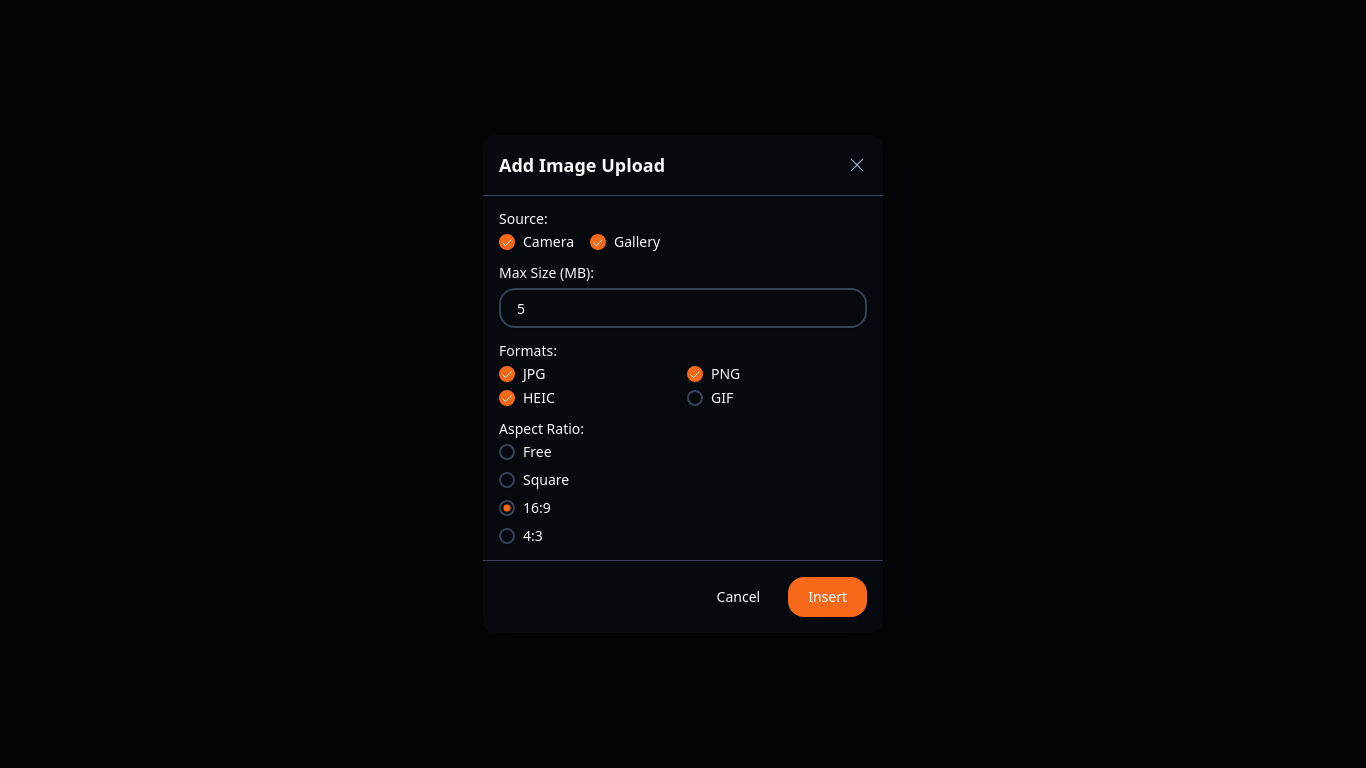
Test case: ImagePanel › Form Validation › should enable Insert button when validation passes
// Start with invalid state (no sources)
Click the checkbox named "Camera" next to "Camera" at (507, 242), box x1=499 y1=234 x2=515 y2=250
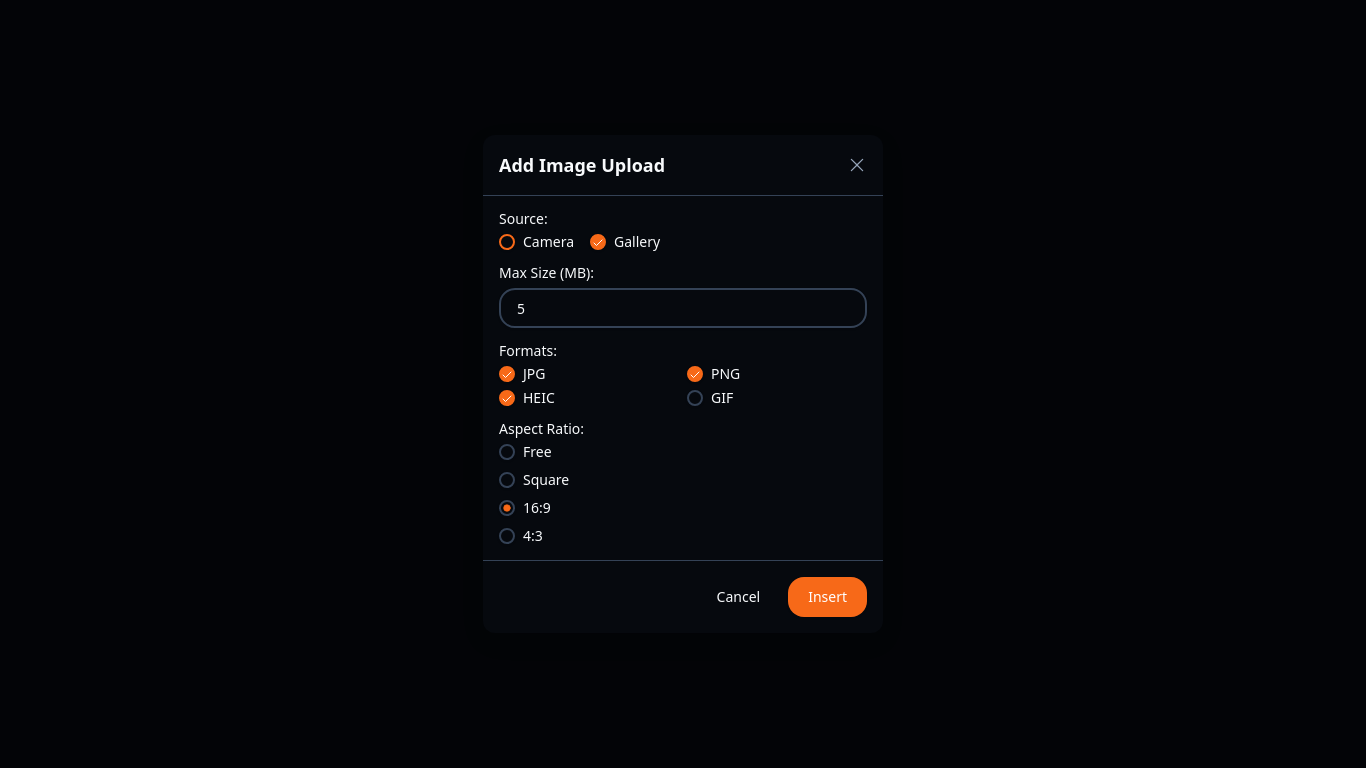
Click the checkbox named "Gallery" next to "Gallery" at (598, 242), box x1=590 y1=234 x2=606 y2=250
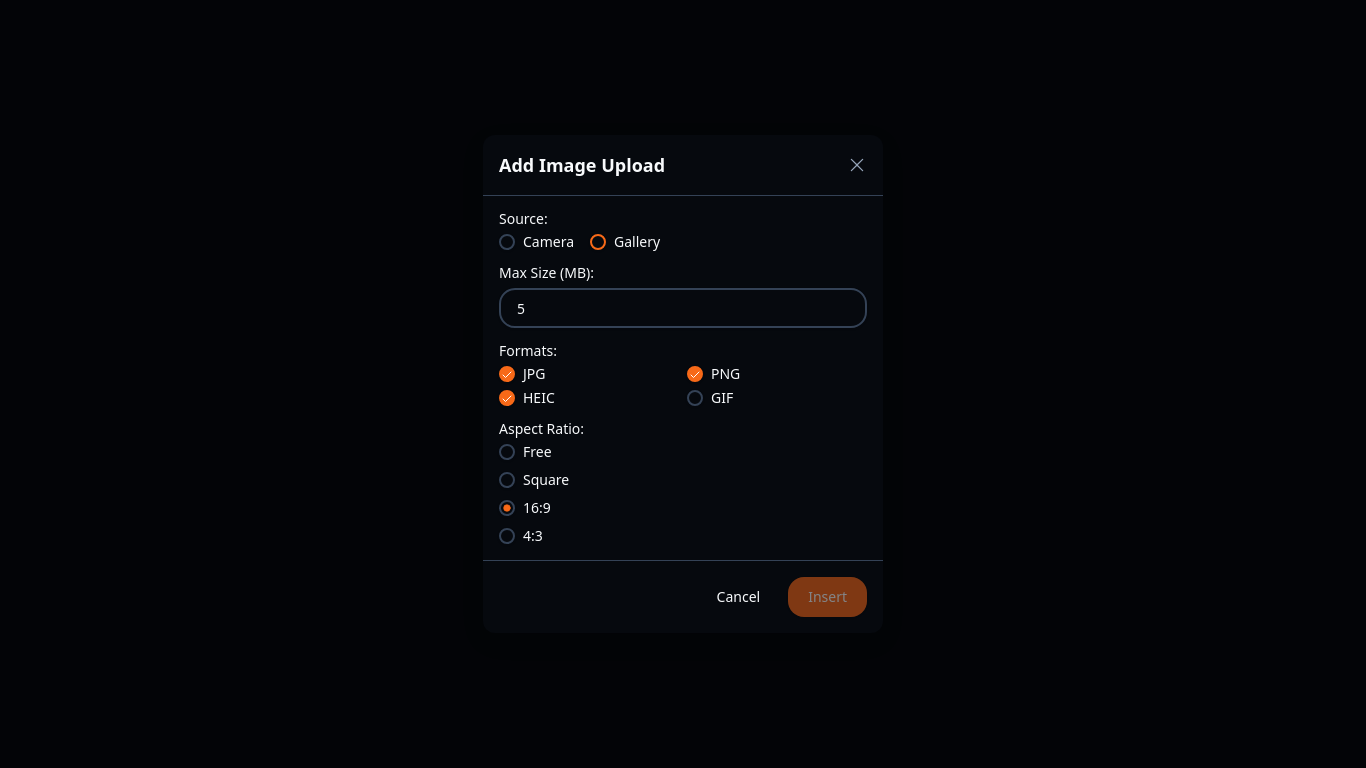
Expected: the button "Insert" is disabled, x1=788 y1=577 x2=867 y2=617
// Make valid by checking camera
Click the checkbox named "Camera" next to "Camera" at (507, 242), box x1=499 y1=234 x2=515 y2=250
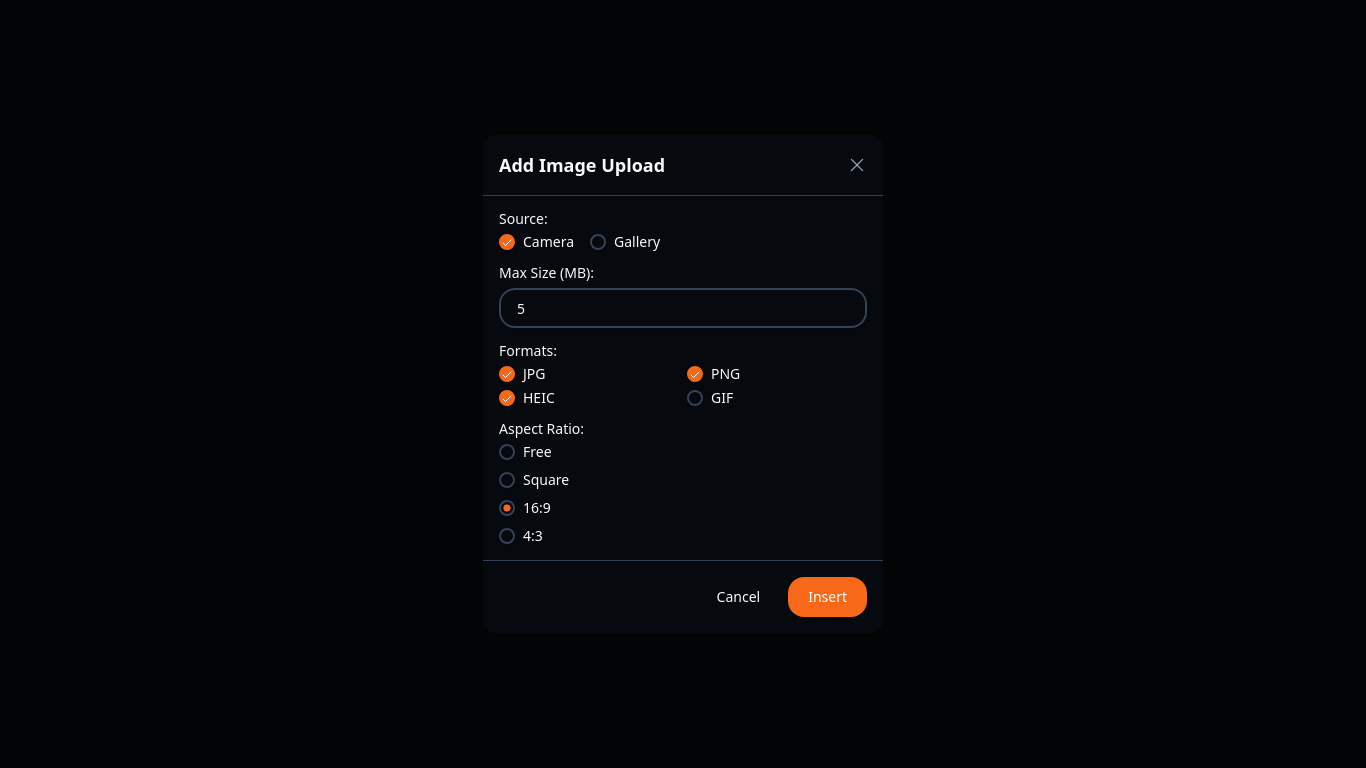
Expected: the button "Insert" is enabled, x1=788 y1=577 x2=867 y2=617
